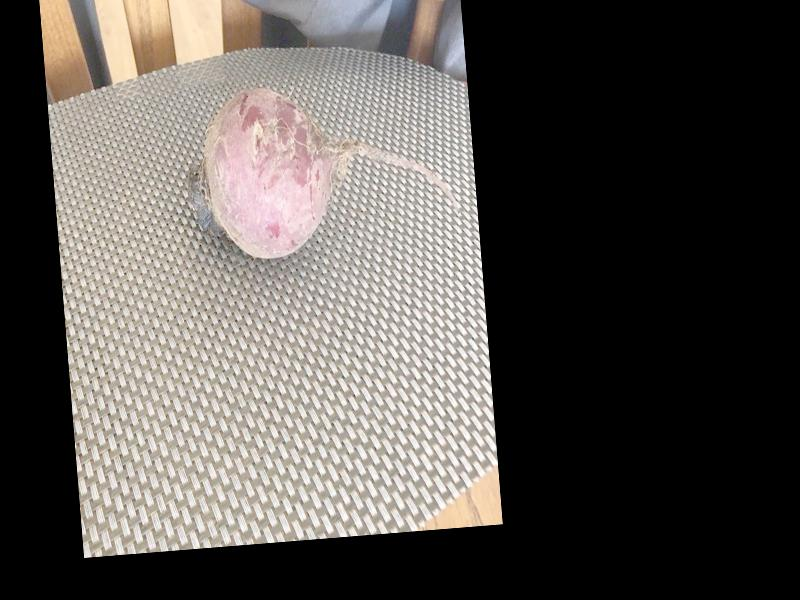Beet: (177, 71, 457, 263)
